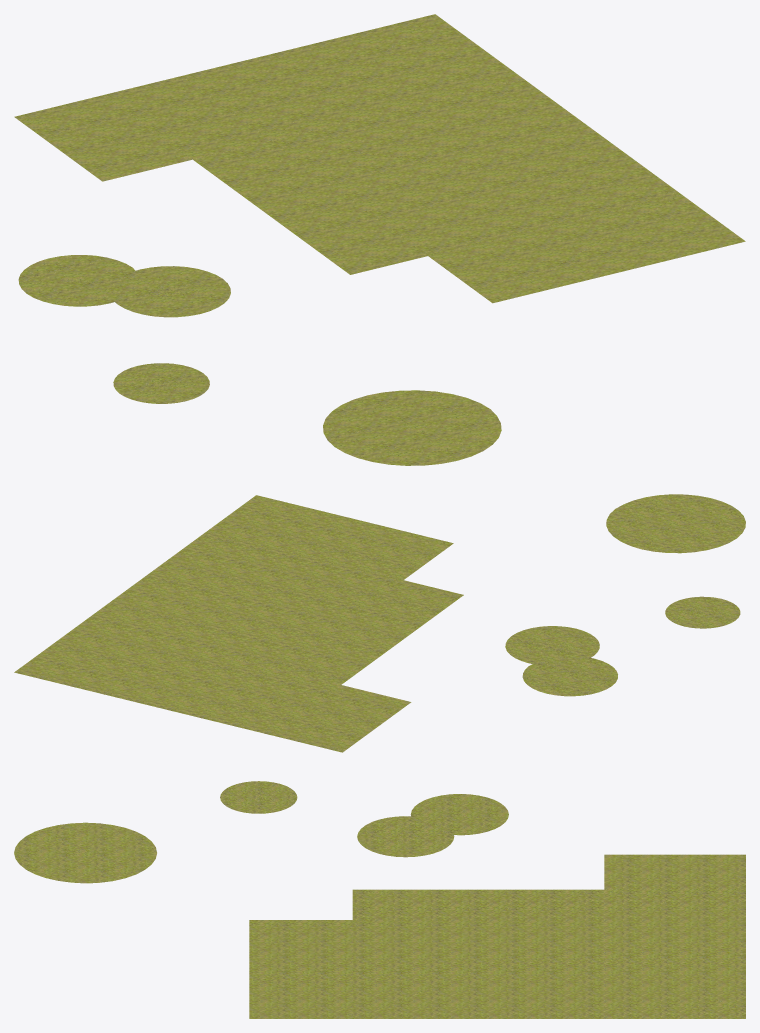
Rendered from grass.fbx.
3 views of the same model, one above another, from view 1: azimuth 30°, elevation 25°; view 2: azimuth 150°, elevation 25°; view 3: azimuth 270°, elevation 25° (orthographic). The views are drawn at different scales.
Parts seen in each view (by area): view 1: Object1884; view 2: Object1884; view 3: Object1884.
Boxes of the visible parts, box(x1,y1,x2,y2) form: Object1884: box(14, 14, 745, 465); Object1884: box(14, 494, 745, 752); Object1884: box(14, 781, 745, 1018).
Size of the model in its own units: 179780 by 1462 by 229855.
